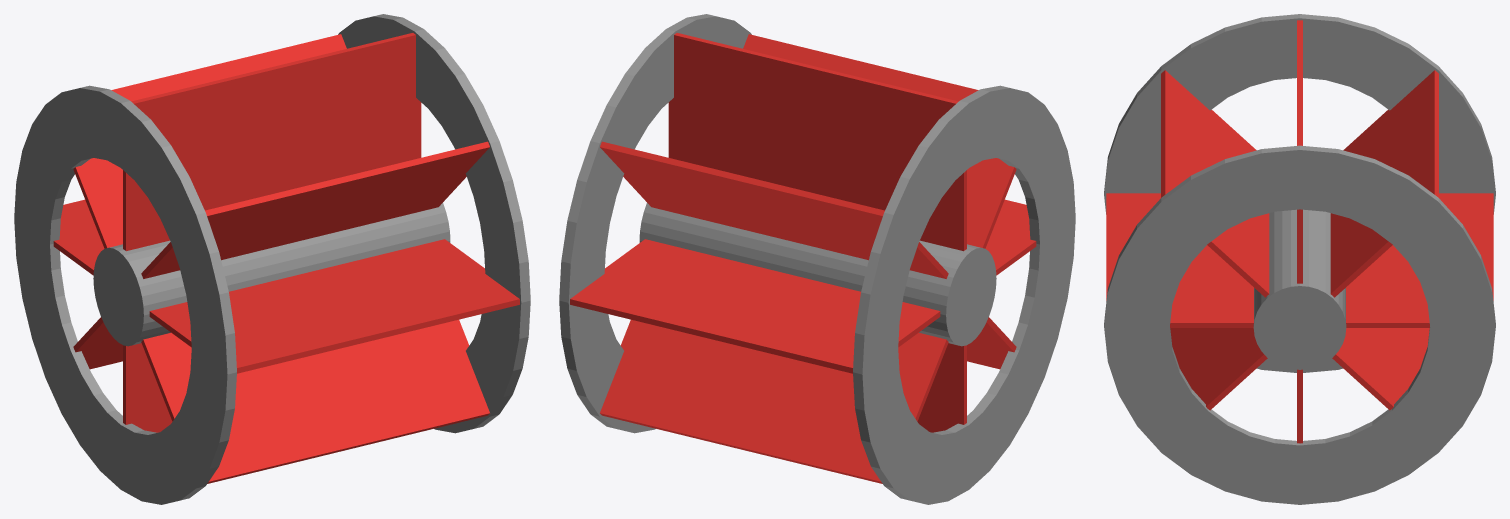
The model's file is fusya.fbx.
3 renders of one model, left to right at view 1: azimuth 30°, elevation 25°; view 2: azimuth 150°, elevation 25°; view 3: azimuth 270°, elevation 25°, orthographic. The views are drawn at different scales.
Parts seen in each view (by area): view 1: 円柱.009, 立方体.009, 立方体.010, 立方体.008, 円柱.008, 立方体.011, 円柱.011; view 2: 円柱.009, 立方体.009, 立方体.011, 立方体.008, 円柱.008, 立方体.010, 円柱.011; view 3: 円柱.008, 円柱.009, 立方体.008, 立方体.010, 立方体.011, 円柱.011, 立方体.009.
Boxes of the visible parts, box(x1,y1,x2,y2) form: 円柱.009: box(14, 85, 236, 504); 立方体.009: box(123, 33, 421, 432); 立方体.010: box(73, 34, 489, 483); 立方体.008: box(53, 199, 519, 373); 円柱.008: box(338, 14, 530, 433); 立方体.011: box(73, 141, 489, 369); 円柱.011: box(93, 203, 450, 346); 円柱.009: box(853, 85, 1075, 504); 立方体.009: box(668, 33, 966, 432); 立方体.011: box(600, 34, 1016, 483); 立方体.008: box(570, 199, 1036, 373); 円柱.008: box(559, 14, 751, 433); 立方体.010: box(600, 141, 1016, 369); 円柱.011: box(639, 203, 996, 346); 円柱.008: box(1104, 145, 1495, 504); 円柱.009: box(1104, 14, 1495, 372); 立方体.008: box(1106, 193, 1493, 327); 立方体.010: box(1170, 70, 1438, 410); 立方体.011: box(1161, 70, 1429, 410); 円柱.011: box(1253, 209, 1346, 369); 立方体.009: box(1297, 20, 1302, 443).
Size of the model in its own units: 6.27 by 7.56 by 7.56.
